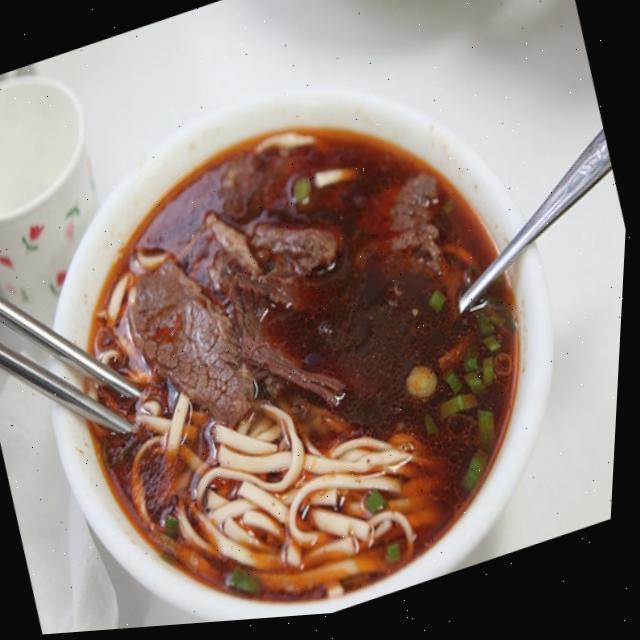面条主食: (0, 7, 618, 640)
